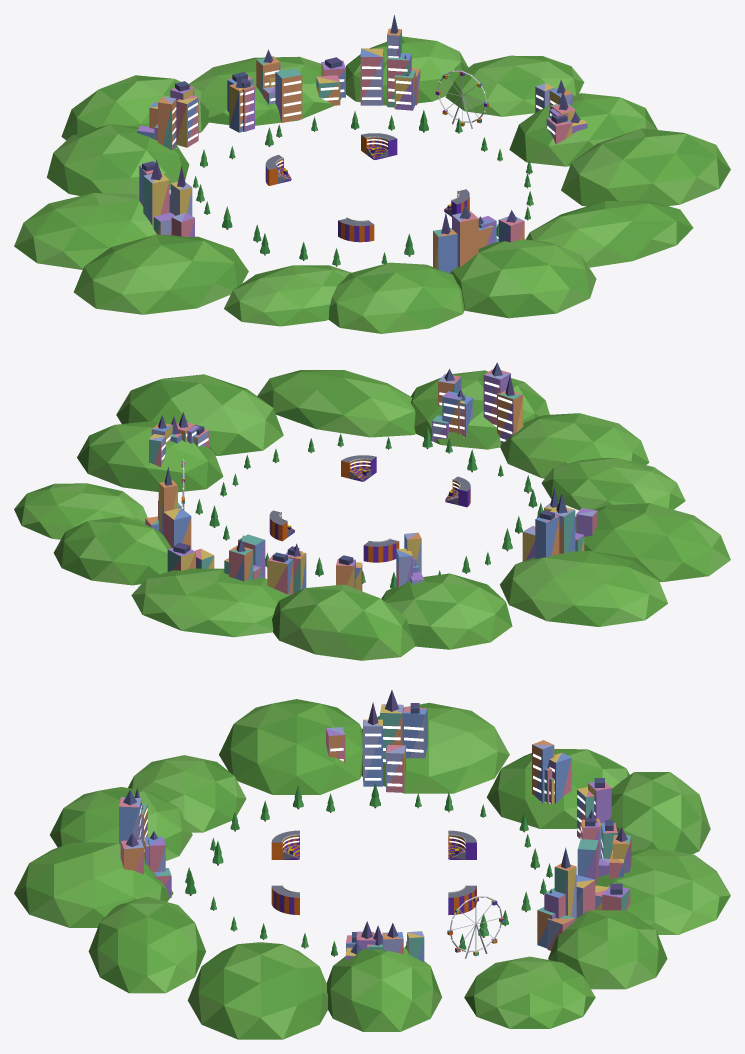
File: stadium-corners.glb
The picture shows the model from 3 angles, top to bottom: view 1: azimuth 30°, elevation 25°; view 2: azimuth 150°, elevation 25°; view 3: azimuth 270°, elevation 25°; orthographic projection. The views are drawn at different scales.
Parts seen in each view (by area): view 1: Skyline, Corners; view 2: Skyline, Corners; view 3: Skyline, Corners.
Part boxes in pixels (<box>): Skyline: <box>14,15,730,333</box>; Corners: <box>265,133,469,242</box>; Skyline: <box>14,362,730,660</box>; Corners: <box>269,455,470,562</box>; Skyline: <box>14,690,730,1039</box>; Corners: <box>271,830,476,915</box>.
Bounding box in the file's own units: 566 × 77.69 × 528.
